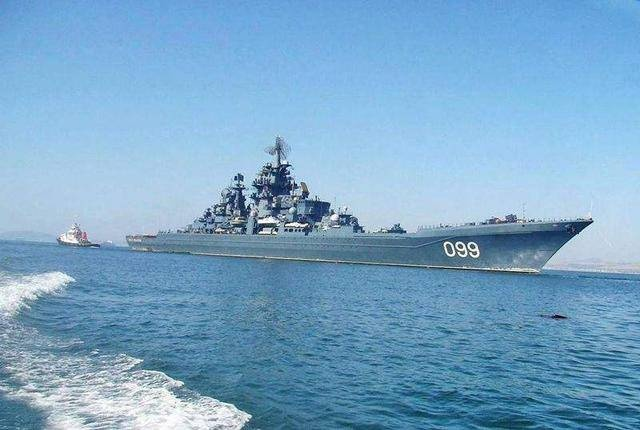otherboat: (57, 218, 102, 257)
warship: (120, 133, 597, 276)
